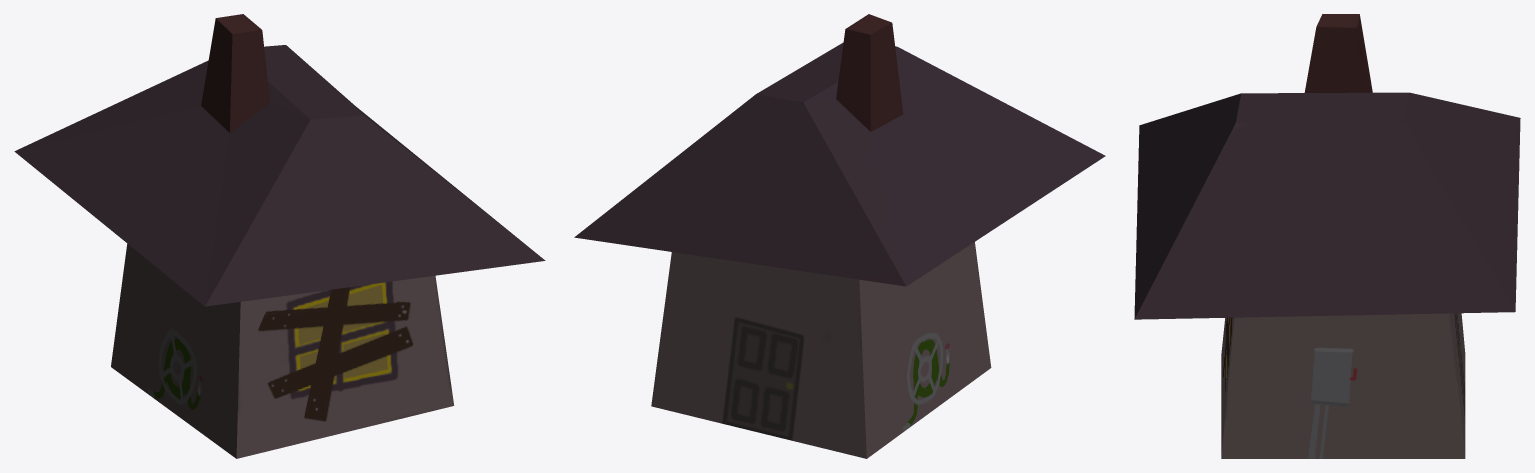
Rendered from ZombHouse.glb.
3 renders of one model, left to right at view 1: azimuth 30°, elevation 25°; view 2: azimuth 150°, elevation 25°; view 3: azimuth 270°, elevation 25°, orthographic. The views are drawn at different scales.
Parts seen in each view (by area): view 1: House; view 2: House; view 3: House.
Boxes of the visible parts, bbox=[...] form: House: bbox=[14, 14, 545, 458]; House: bbox=[574, 14, 1105, 458]; House: bbox=[1134, 14, 1520, 458].
Size of the model in its own units: 3.16 by 3.3 by 3.16.
1 material, 1 textured.
